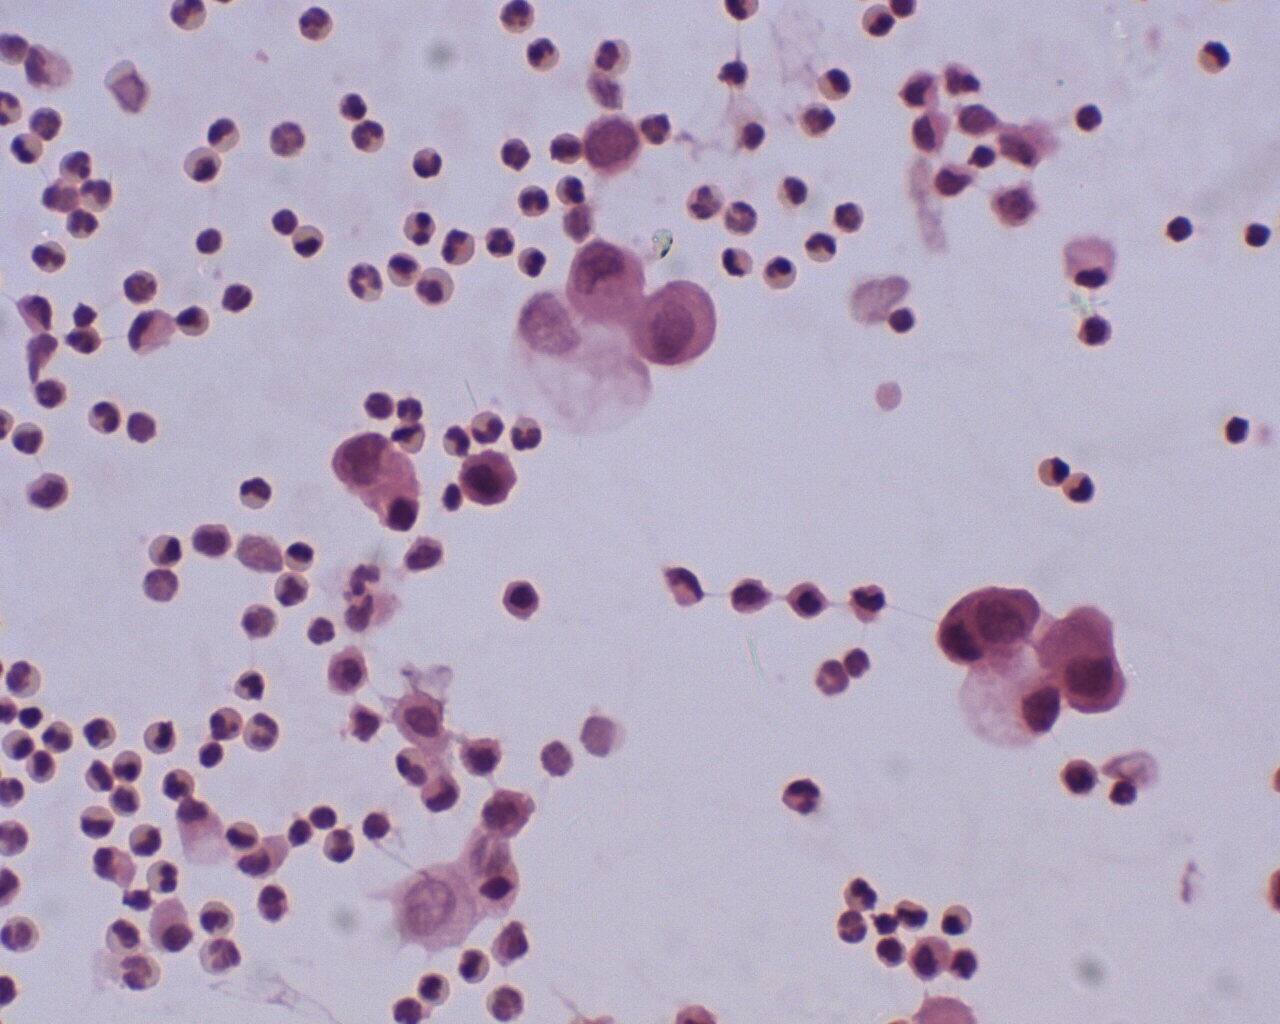ab: (585, 117, 639, 176)
histo: (959, 639, 1058, 747)
lymph: (1167, 210, 1195, 243), (194, 222, 222, 255), (1083, 317, 1112, 347), (1074, 102, 1102, 131), (1243, 223, 1273, 249), (270, 208, 300, 233), (1225, 415, 1248, 444)
meso: (635, 281, 717, 372), (390, 694, 448, 754), (459, 448, 517, 507)
neutro: (238, 715, 283, 755), (443, 226, 476, 265), (348, 263, 382, 301), (125, 822, 165, 855), (84, 401, 123, 434), (39, 718, 72, 755), (839, 876, 877, 909), (483, 225, 518, 259), (403, 210, 439, 245), (82, 805, 114, 842), (724, 199, 757, 234), (802, 232, 836, 265), (764, 254, 795, 289), (87, 759, 117, 795), (411, 145, 442, 180), (350, 120, 385, 152), (239, 478, 271, 509)
